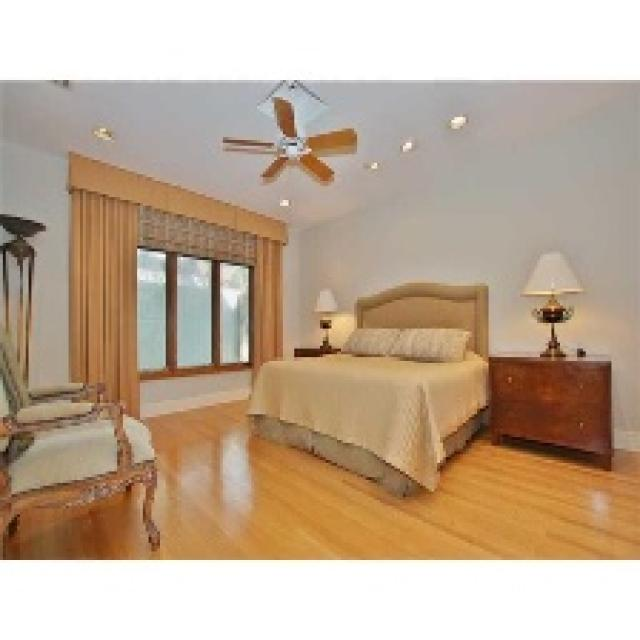Bed: (246, 280, 488, 497)
